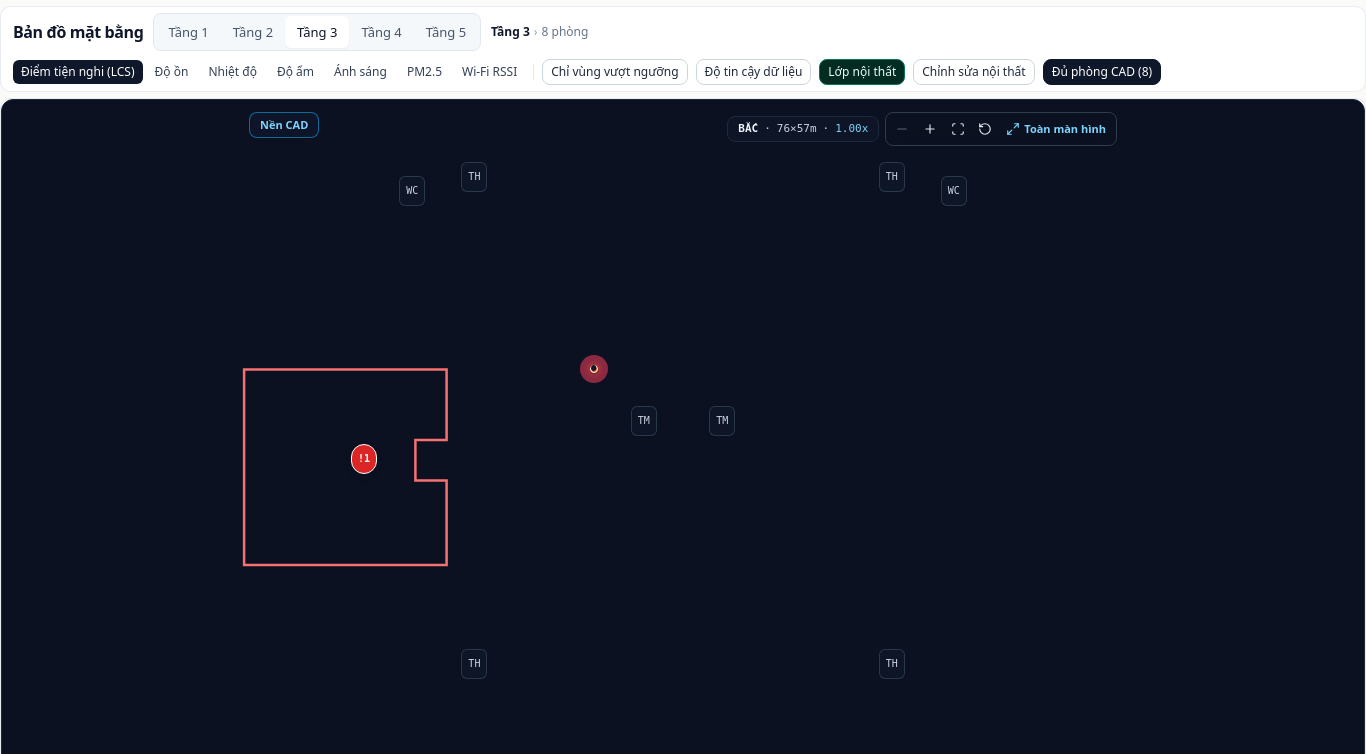
Phase 6 — Xử lý Cảnh báo Trực tiếp Trên Bản Đồ (TC-G6-06..11) › TC-G6-06: Click vùng cảnh báo trên bản đồ mở Drawer với tóm tắt dễ hiểu, SOP, người phụ trách và nút Xác nhận / Giao việc / Ghi chú
Click the button with test id "room-alert-badge-ROOM_302". click: {"x": 364, "y": 460}
box: [342,438,386,482]
(page scrolled)
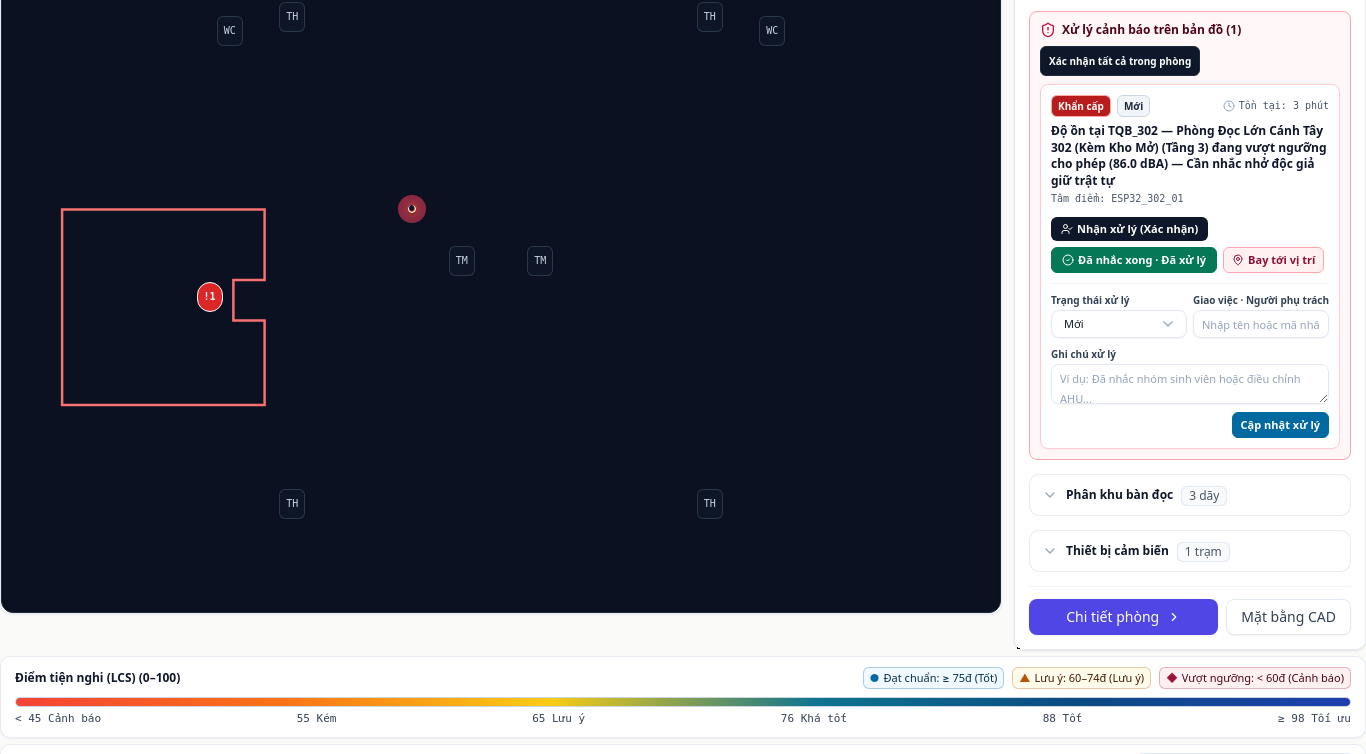
Now the element with test id "alert-inspector-drawer" shows "Độ ồn tại TQB_302", box [1051,122,1326,189]
Now the element with test id "alert-inspector-drawer" shows "86.0 dBA", box [1051,122,1326,189]
Now the element with test id "alert-inspector-drawer" shows "Cần nhắc nhở độc giả giữ trật tự", box [1051,122,1326,189]
